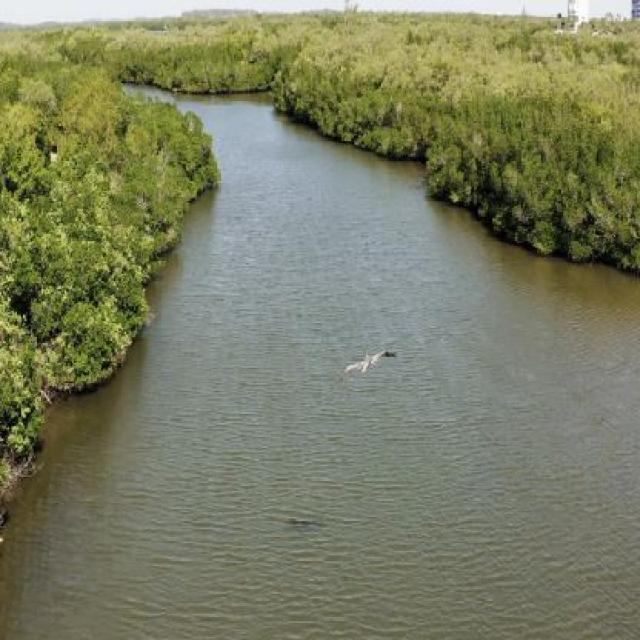bird: (338, 342, 398, 392)
